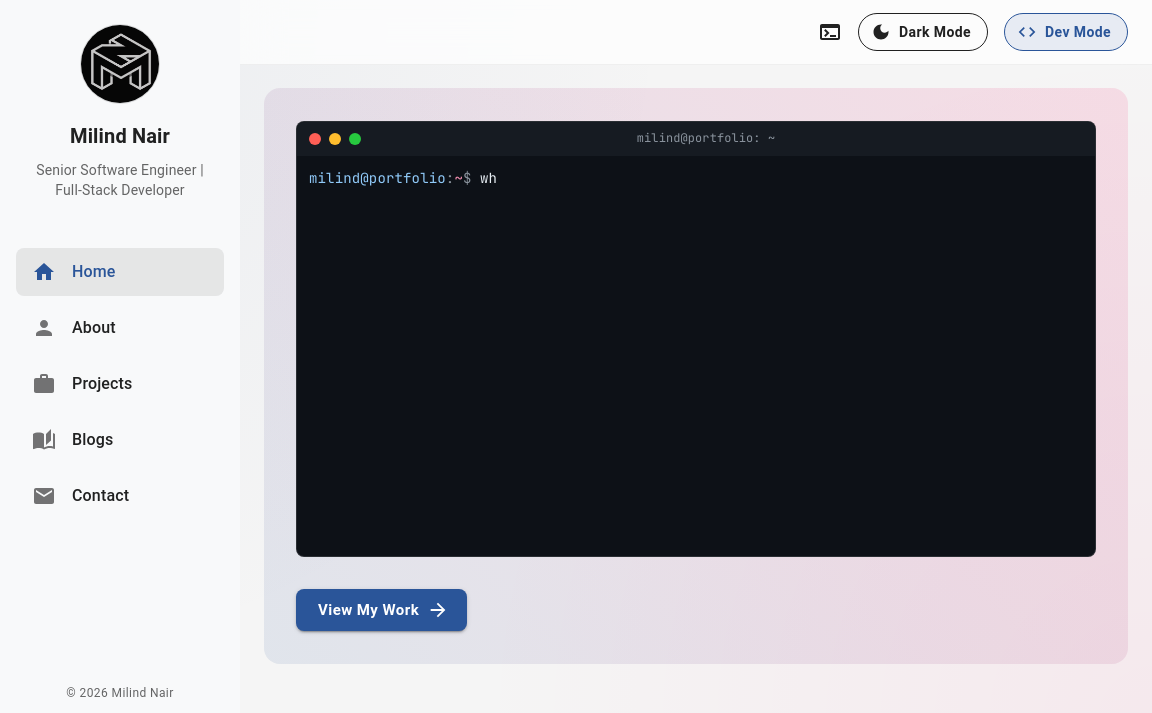
Test: help prints output
Press `
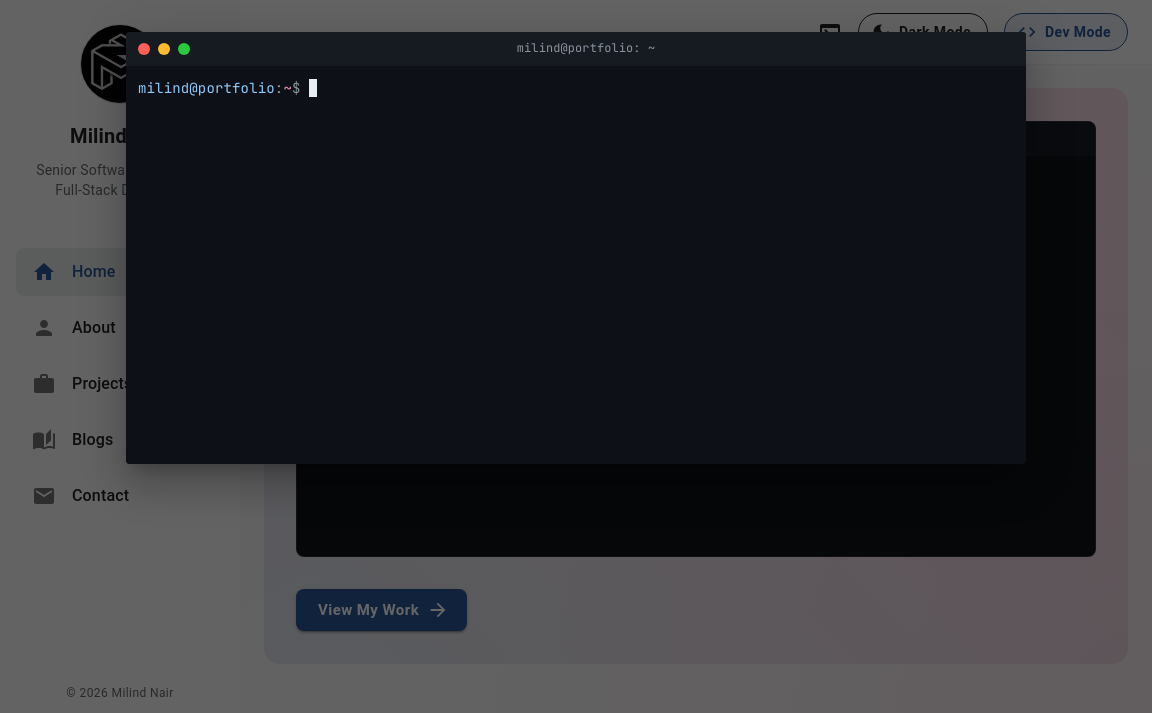
Type "help" into the field named "Terminal input".
click(661, 88); type("help")  # box x1=309 y1=78 x2=1014 y2=99
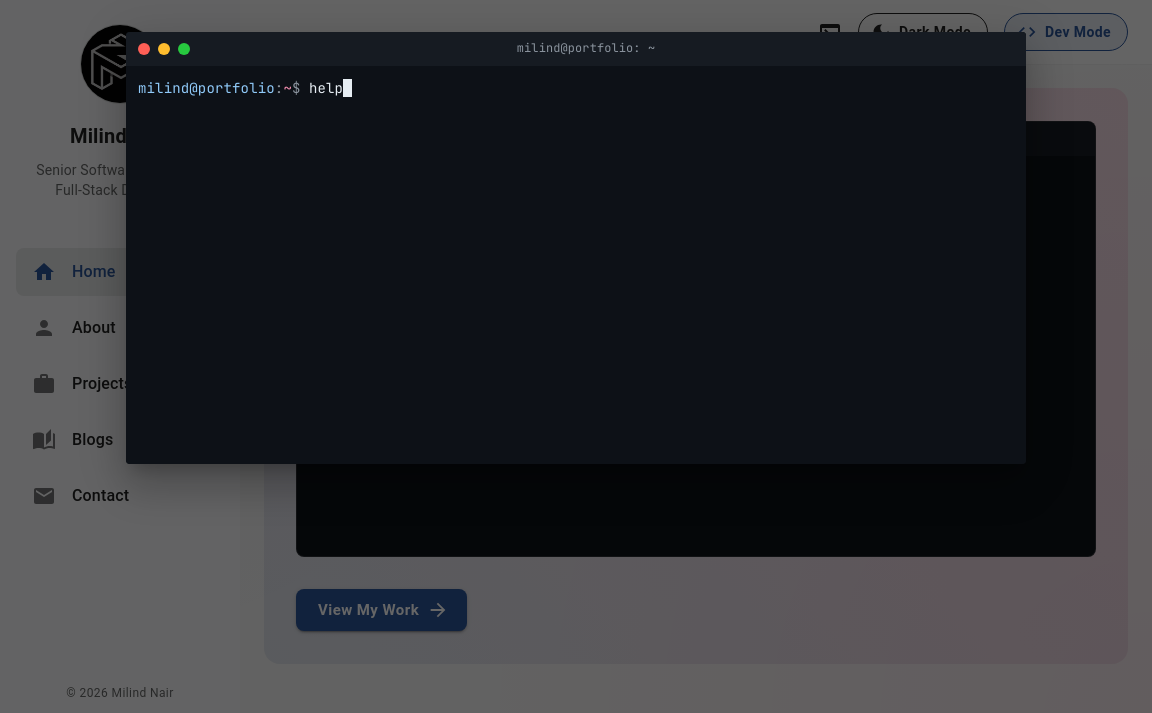
Press Enter in the field named "Terminal input", box x1=309 y1=78 x2=1014 y2=99
(page scrolled)
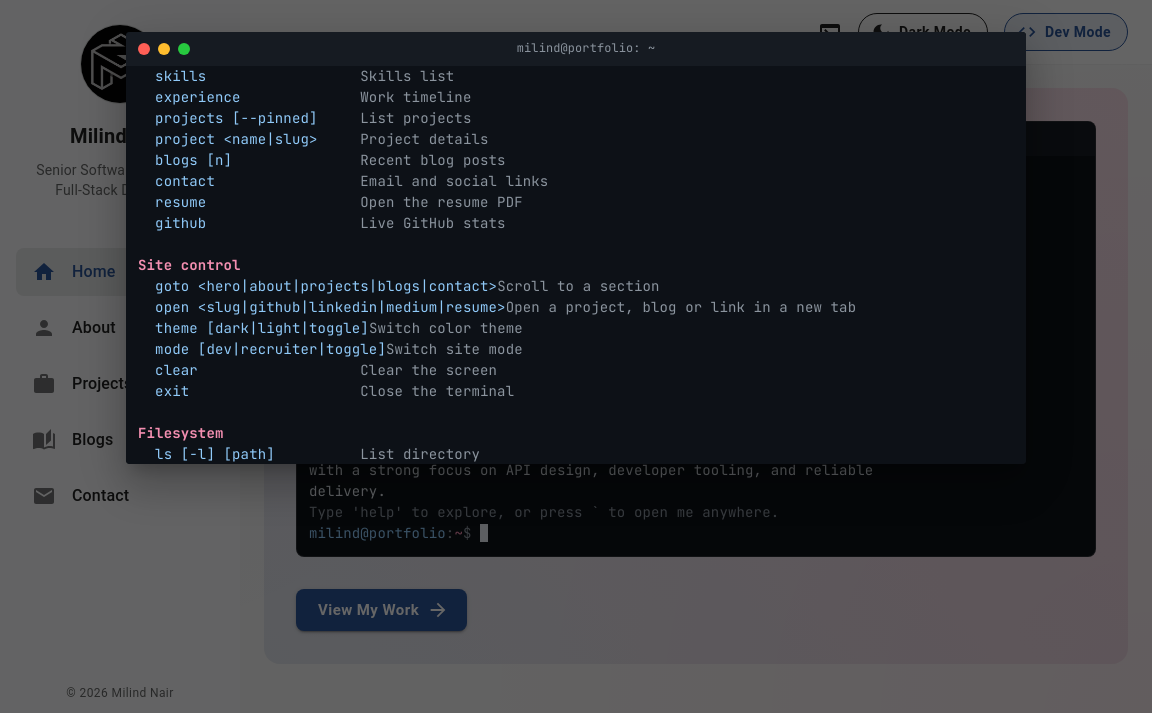
expect the text "Site control" is shown: met, box x1=138 y1=256 x2=241 y2=274
